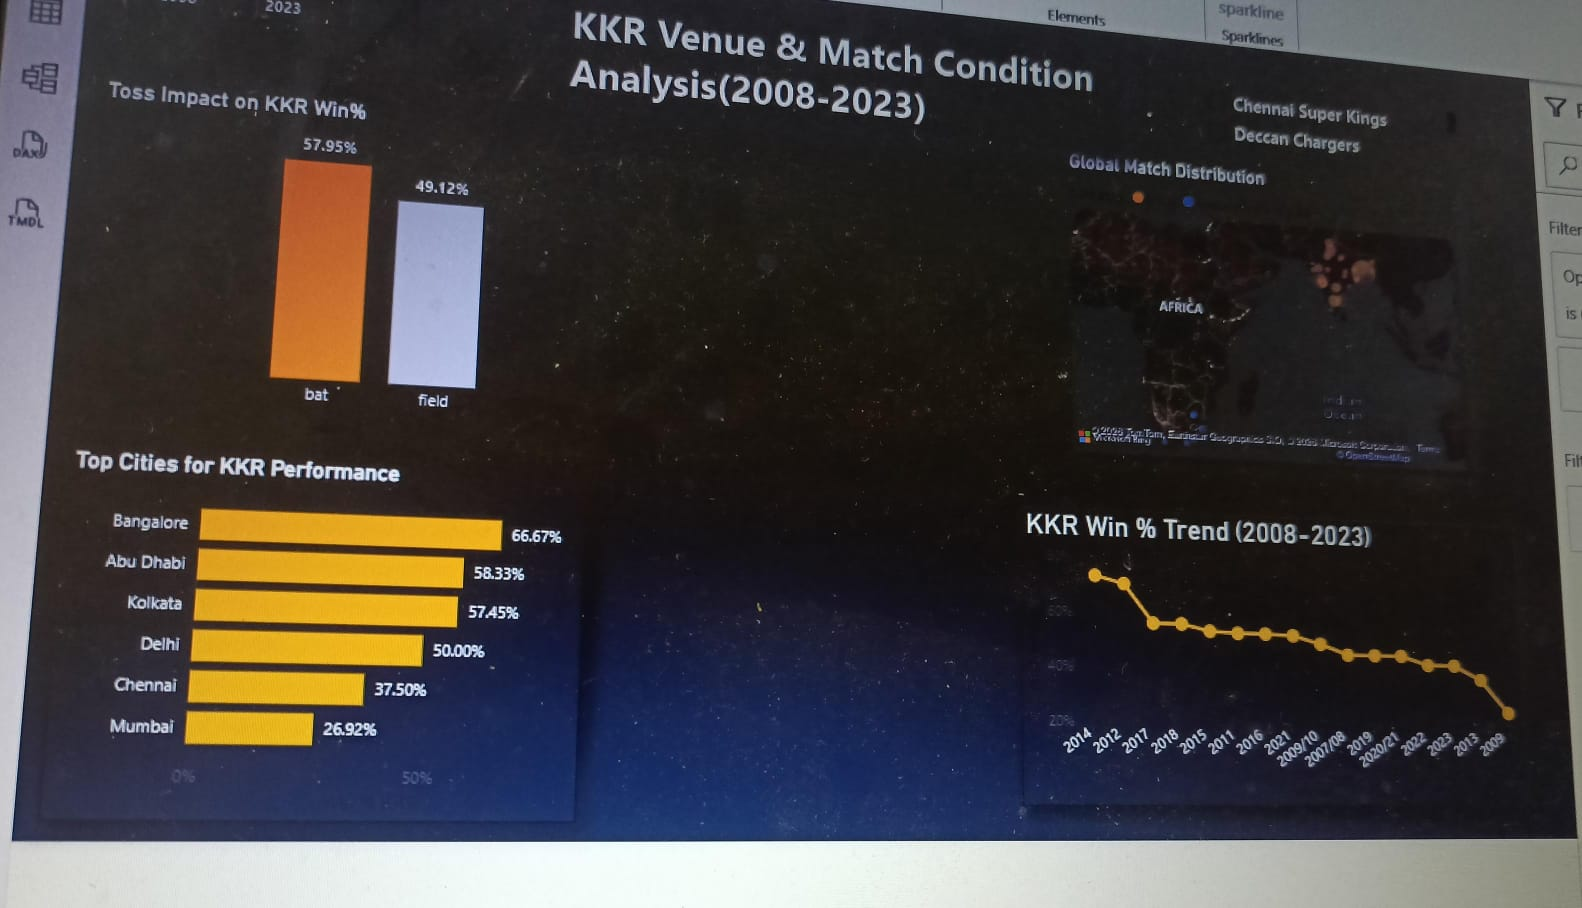

This screenshot's page, from the dashboard's own definition file:
{"tool":"powerbi","page":{"name":"Page 3","canvas":[1280,720],"ordinal":2},"visuals":[{"type":"clusteredBarChart","title":" Top Cities for KKR Performance","fields":{"Category":["matches_updated_ipl_upto_2025.city"],"Y":["matches_updated_ipl_upto_2025.Win % KKR"]},"box":[16.5,425.4,385.6,279.9],"z":0},{"type":"lineChart","title":" KKR Win % Trend (2008-2023)","fields":{"Category":["matches_updated_ipl_upto_2025.season"],"Y":["matches_updated_ipl_upto_2025.Win % vs Opponent"]},"box":[764.3,440.5,470.7,251.1],"z":1000},{"type":"clusteredColumnChart","title":"Toss Impact on KKR Win%","fields":{"Category":["matches_updated_ipl_upto_2025.toss_decision"],"Y":["matches_updated_ipl_upto_2025.Win % KKR"]},"box":[16.5,130.4,385.6,279.9],"z":2000},{"type":"map","title":"Global Match Distribution","fields":{"Category":["matches_updated_ipl_upto_2025.city"],"Size":["matches_updated_ipl_upto_2025.Total Matches KKR"],"Series":["matches_updated_ipl_upto_2025.Country"]},"box":[808.2,116.6,385.6,279.9],"z":3000},{"type":"slicer","fields":{"Values":["IPL_ball_by_ball_updated.season"]},"box":[32.9,19.2,218.2,82.3],"z":4000},{"type":"slicer","fields":{"Values":["matches_updated_ipl_upto_2025.Opponent"]},"box":[934.5,19.2,269,83.7],"z":5000},{"type":"textbox","box":[370.5,19.2,494,97.4],"z":5001}]}

Visuals, with their boxes on the page's 1280x720 design canvas (x1, y1, x2, y2). These are canvas units, not pixel positions in the 1582x908 screenshot, which may show the page scaled, cropped or inside an application window:
" Top Cities for KKR Performance" clusteredBarChart: Rect(16, 425, 402, 705)
" KKR Win % Trend (2008-2023)" lineChart: Rect(764, 440, 1235, 692)
"Toss Impact on KKR Win%" clusteredColumnChart: Rect(16, 130, 402, 410)
"Global Match Distribution" map: Rect(808, 117, 1194, 396)
slicer - IPL_ball_by_ball_updated.season: Rect(33, 19, 251, 102)
slicer - matches_updated_ipl_upto_2025.Opponent: Rect(934, 19, 1204, 103)
textbox: Rect(370, 19, 864, 117)
